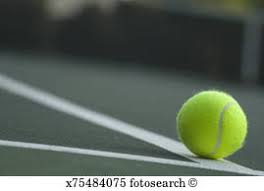tennis_ball: (176, 90, 248, 159)
